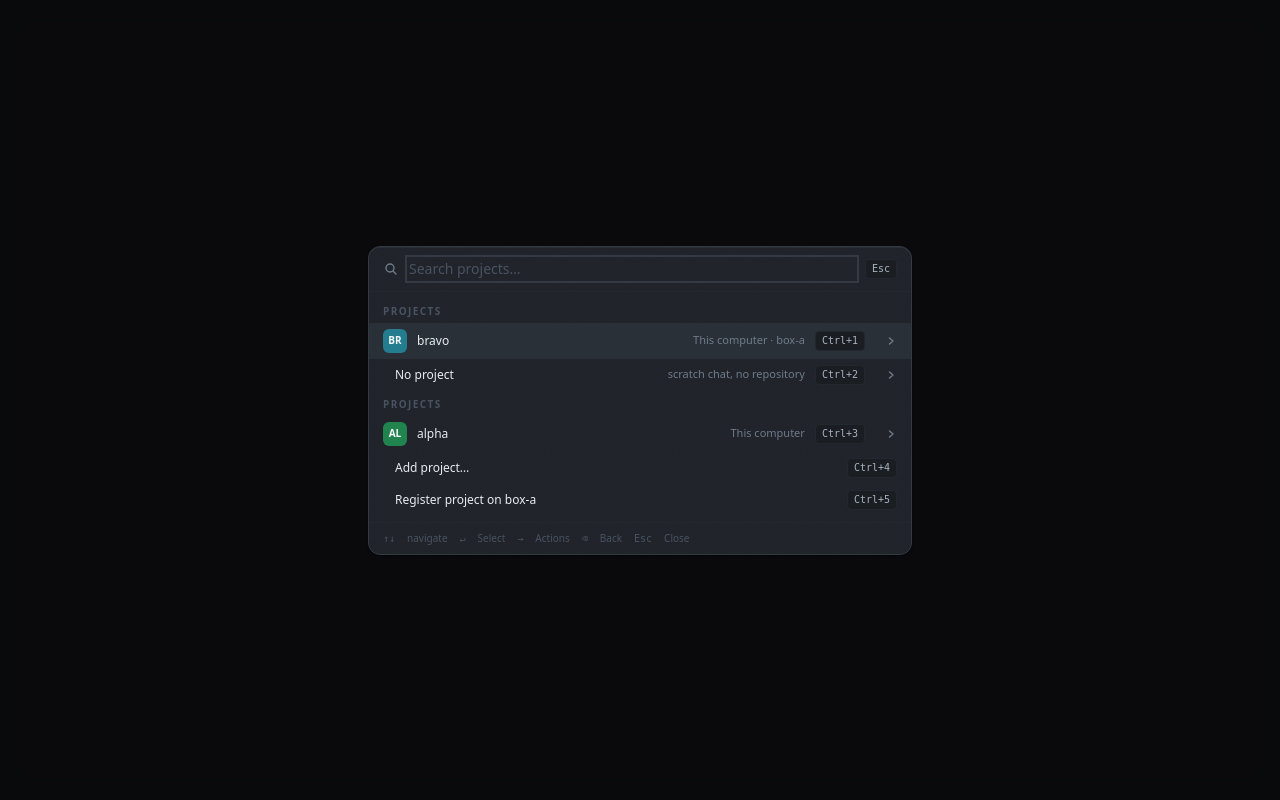
Scenario: ProjectQuickOpen pages (issue #919) › the row's actions button opens the project page
The image size is (1280, 800).
Click the button named "actions for alpha".
click(891, 434)  # box left=879, top=422, right=903, bottom=446
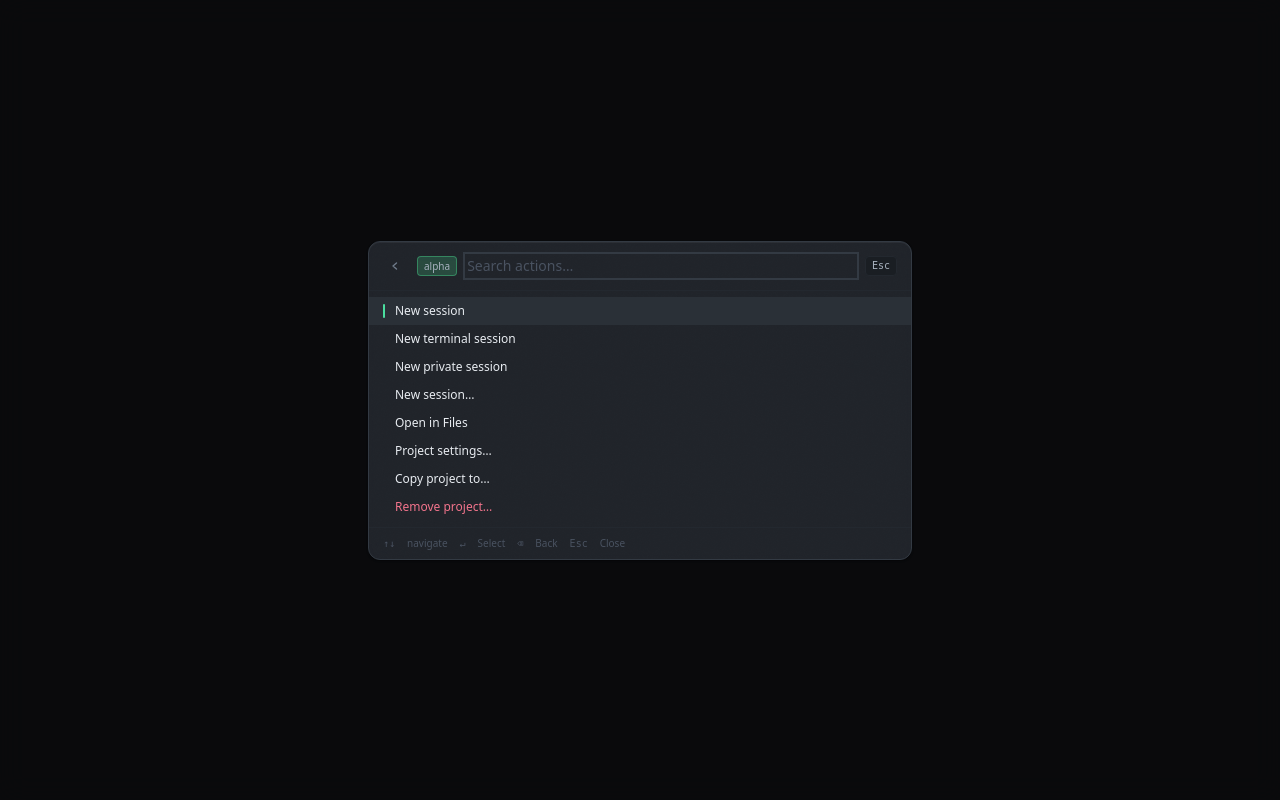
Expected: the field with placeholder "Search actions…" is shown, left=467, top=256, right=855, bottom=276
Expected: the text "Remove project…" is shown, left=395, top=498, right=492, bottom=514
